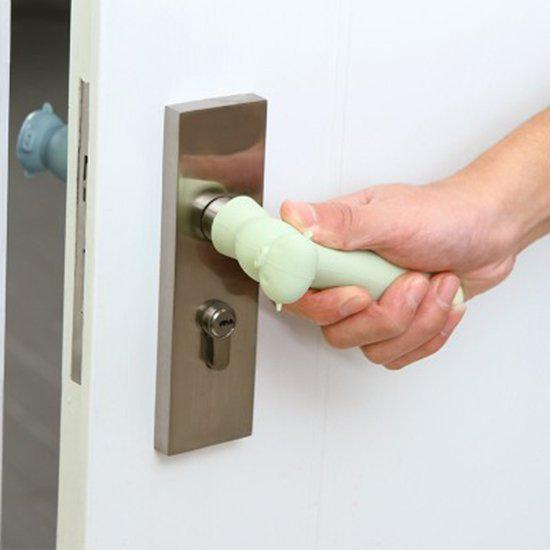doorhandle: (133, 156, 476, 374)
